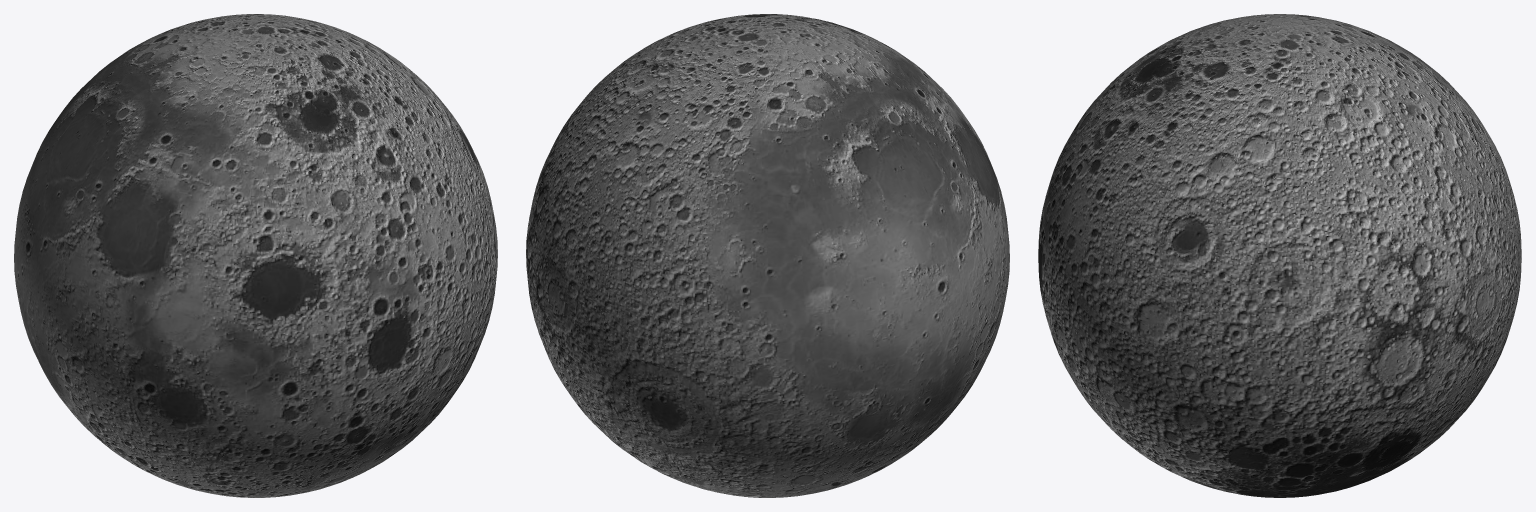
File: LunaRedonda.fbx
3 views of the same model, side by side, from view 1: azimuth 30°, elevation 25°; view 2: azimuth 150°, elevation 25°; view 3: azimuth 270°, elevation 25° (orthographic).
Visible parts, largest first — view 1: pSphere1; view 2: pSphere1; view 3: pSphere1.
Part boxes in pixels (x1=…): pSphere1: x1=14, y1=14, x2=497, y2=497; pSphere1: x1=526, y1=14, x2=1009, y2=497; pSphere1: x1=1038, y1=14, x2=1521, y2=497.
Size of the model in its own units: 14.63 by 14.63 by 14.6.
1 material, 1 textured.
